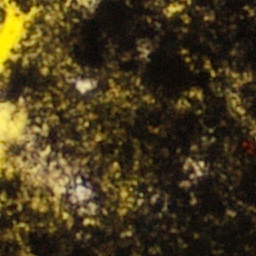cement_matrix: (0, 0, 255, 255), (70, 181, 89, 202), (75, 79, 92, 92), (0, 8, 2, 21)
cracks: (0, 100, 72, 197), (0, 0, 37, 75)
gravel_crushed_stones: (71, 182, 88, 201), (76, 80, 91, 91), (78, 0, 92, 4)
